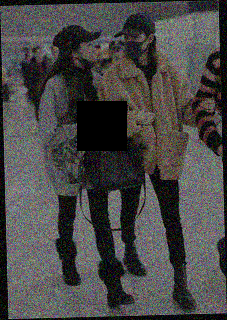mask_weared_incorrect: (76, 40, 98, 67)
with_mask: (123, 32, 150, 59)
